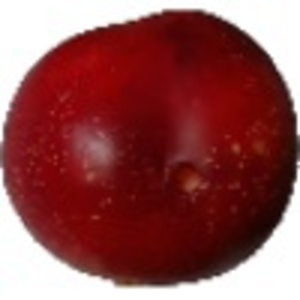nectarina: (1, 8, 300, 290)
